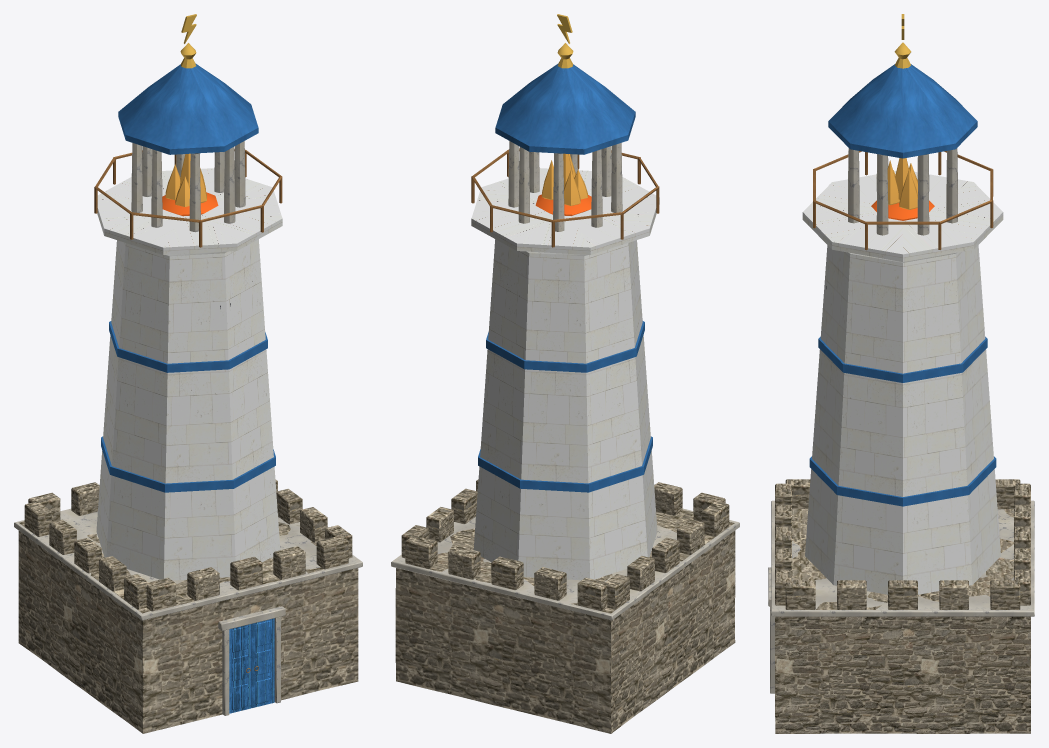
The model's file is civic_lighthouse.glb.
3 renders of one model, left to right at view 1: azimuth 30°, elevation 25°; view 2: azimuth 150°, elevation 25°; view 3: azimuth 270°, elevation 25°, orthographic. The views are drawn at different scales.
Parts seen in each view (by area): view 1: hall, stone, marble, azure0, azure_wood, paint_azure, bronze, flame.005, coal; view 2: hall, stone, marble, azure0, paint_azure, bronze, flame.005, coal; view 3: hall, stone, azure0, marble, paint_azure, bronze, flame.005, coal.
Part boxes in pixels (x1,y1,x2,y2): hall: (96, 168, 282, 580); stone: (18, 479, 358, 733); marble: (14, 141, 362, 715); azure0: (118, 64, 258, 154); azure_wood: (229, 618, 274, 713); paint_azure: (101, 321, 275, 492); bronze: (94, 148, 282, 672); flame.005: (165, 153, 206, 206); coal: (162, 192, 218, 216); hall: (471, 168, 659, 580); stone: (395, 479, 735, 733); marble: (391, 141, 739, 620); azure0: (495, 64, 635, 154); paint_azure: (478, 321, 652, 492); bronze: (471, 148, 659, 247); flame.005: (542, 153, 587, 205); coal: (535, 194, 591, 215); hall: (802, 171, 1003, 594); stone: (775, 479, 1030, 733); azure0: (828, 64, 977, 158); marble: (768, 148, 1034, 693); paint_azure: (809, 337, 996, 506); bronze: (813, 151, 993, 250); flame.005: (887, 158, 917, 209); coal: (871, 200, 934, 220).
Size of the model in its own units: 6.18 by 17.21 by 6.25.
11 materials, 7 textured.
